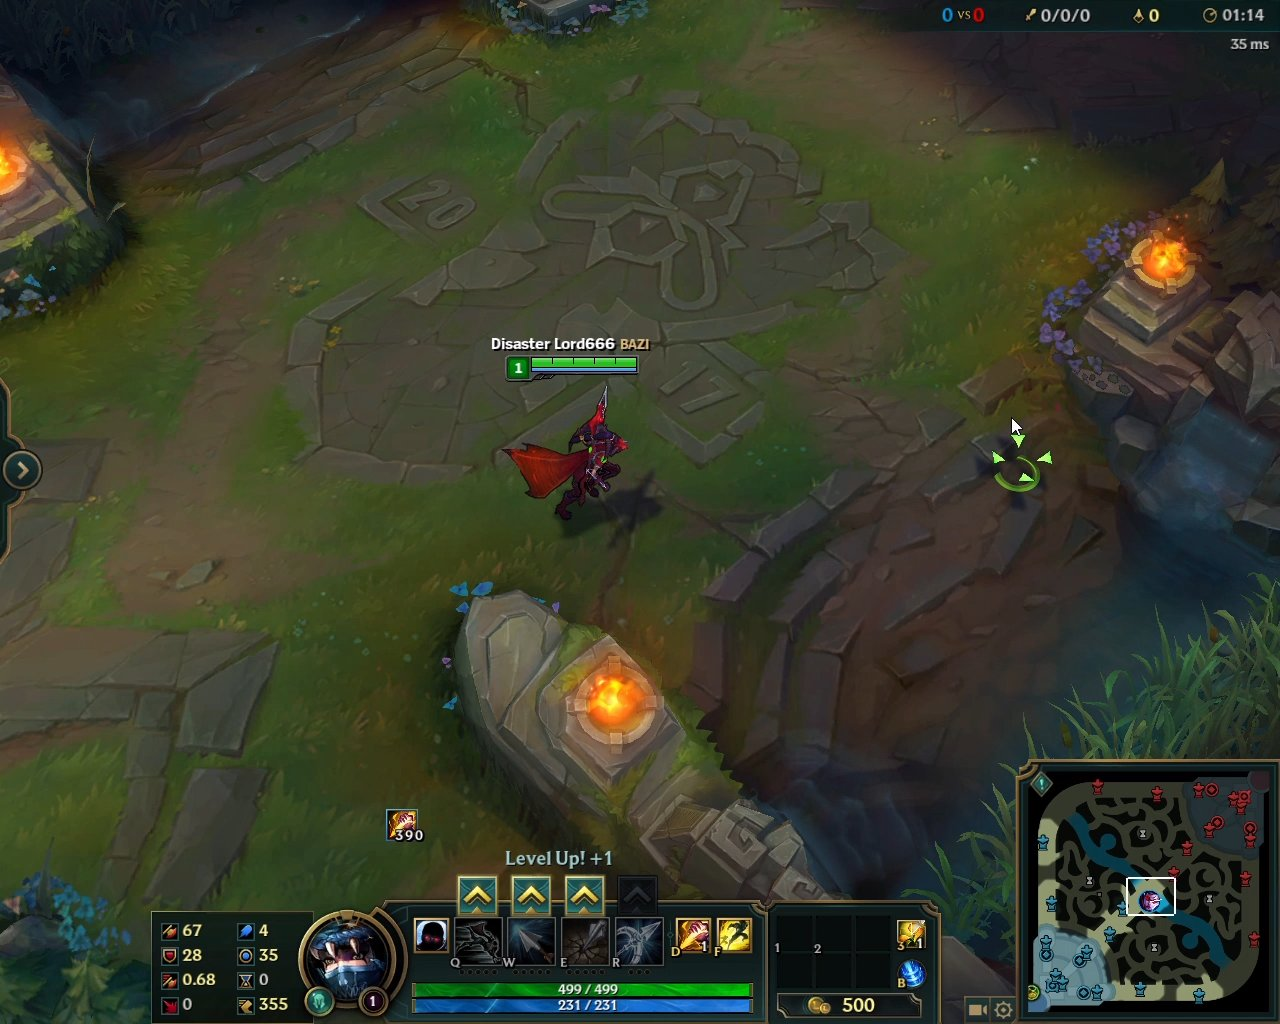Vayne: (493, 378, 633, 529)
